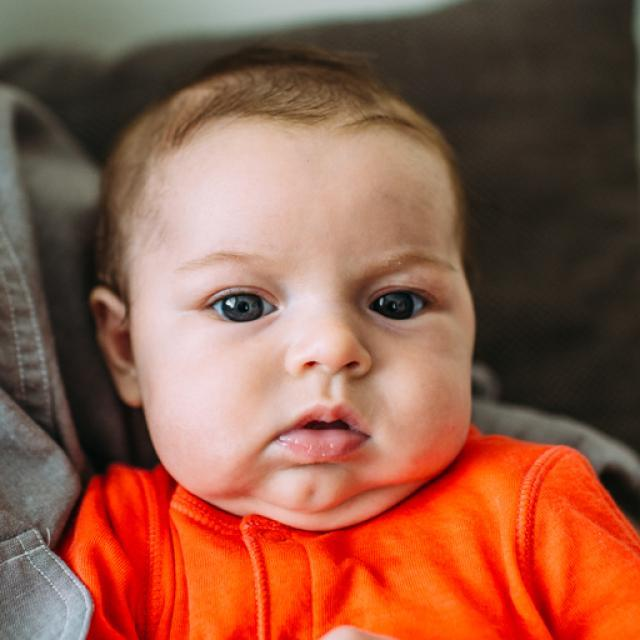fear: (132, 126, 476, 509)
